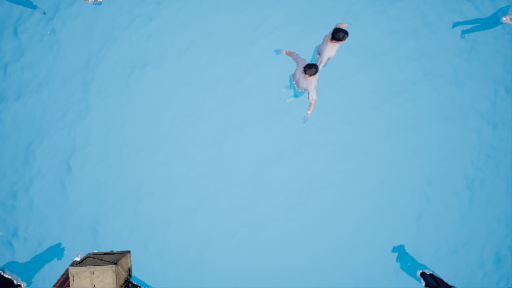person: (270, 22, 356, 119)
